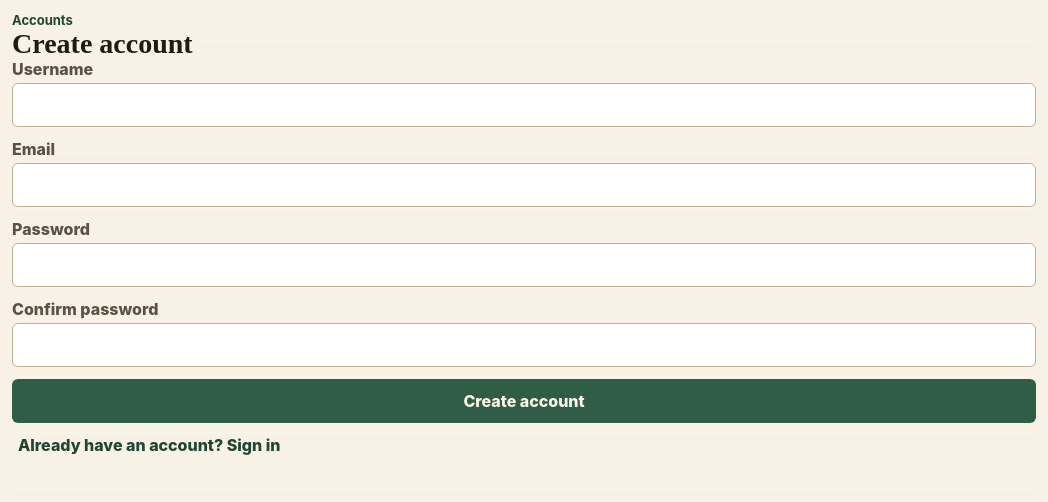
Test: AuthForm › uses custom inline registration password validation
Type "Mara" into the field labelled "Username" at [524, 105], box [12,83,1036,127]
Type "mara@example.com" into the field labelled "Email" at [524, 185], box [12,163,1036,207]
Type "weakpass" into the password field labelled "Password" at [524, 265], box [12,243,1036,287]
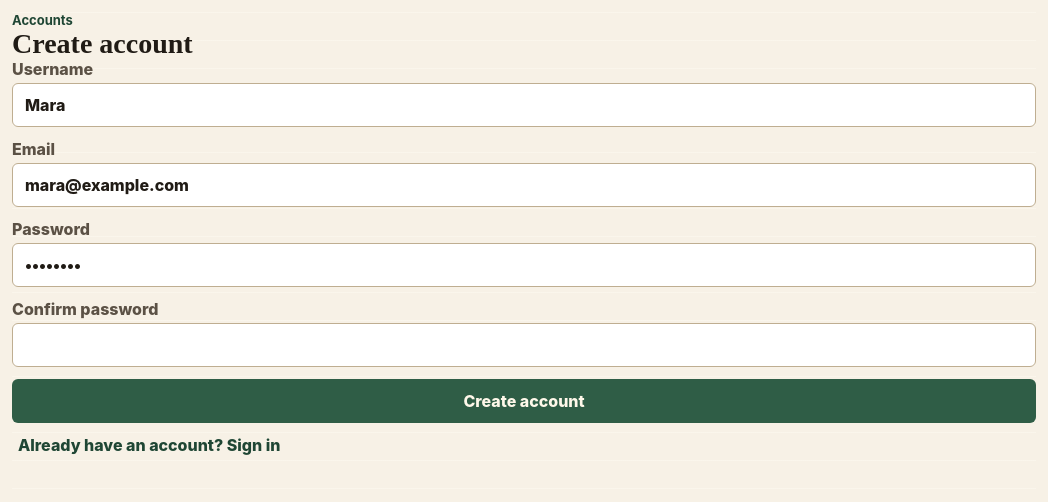
Type "weakpass" into the password field labelled "Confirm password" at [524, 345], box [12,323,1036,367]
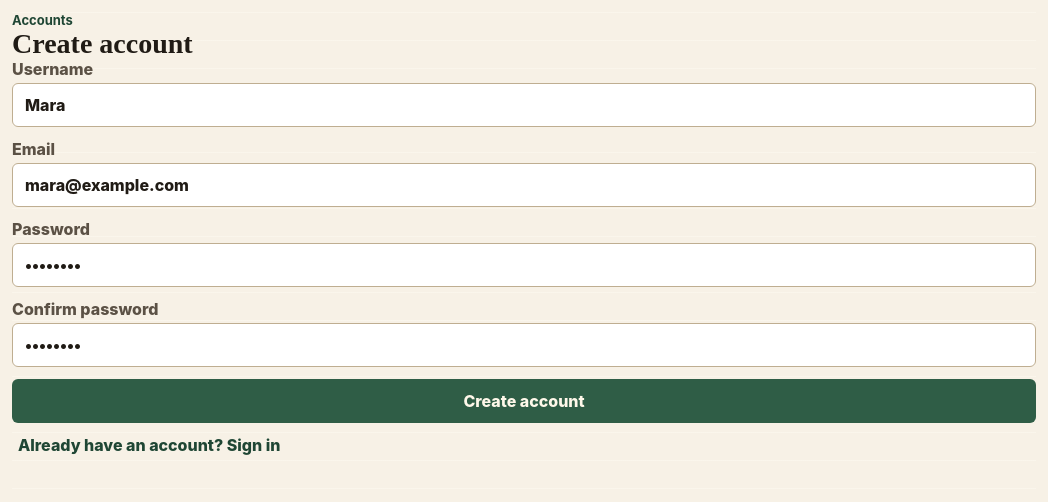
Click the button "Create account" at [524, 401], box [12,379,1036,423]
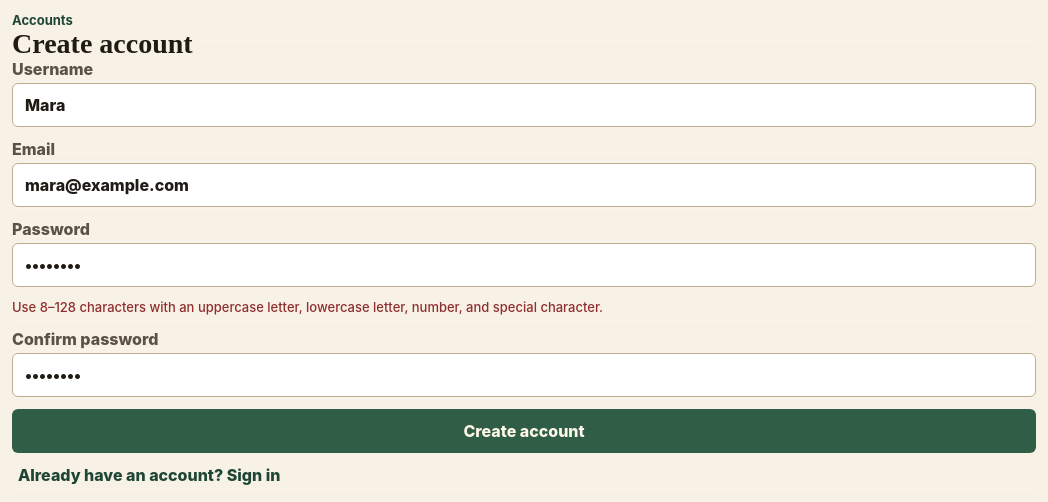
Expected: the message shows "Use 8–128 characters with an uppercase letter, lowercase letter, number, and special character.", [12,299,603,315]
Type "Correct-horse-battery-staple1" into the password field labelled "Password" at [524, 265], box [12,243,1036,287]
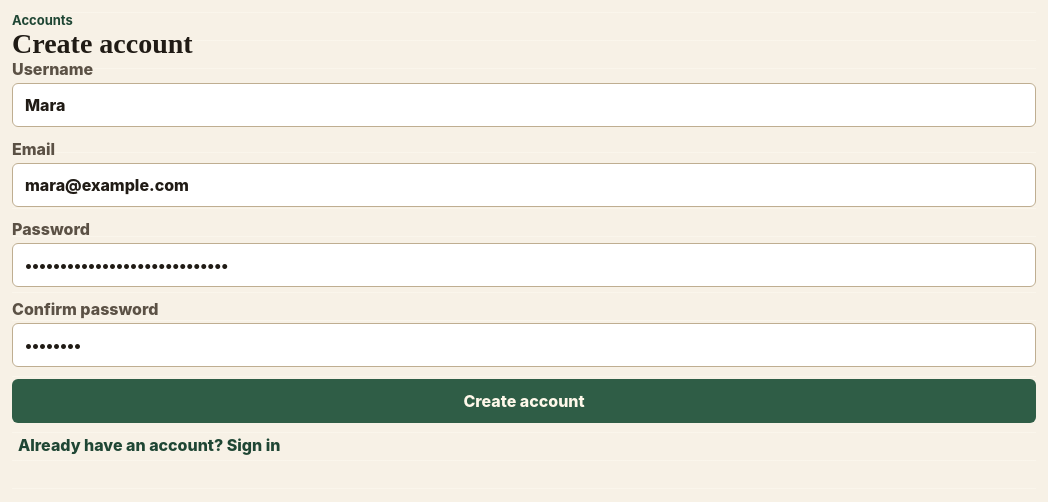
Type "Correct-horse-battery-staple1" into the password field labelled "Confirm password" at [524, 345], box [12,323,1036,367]
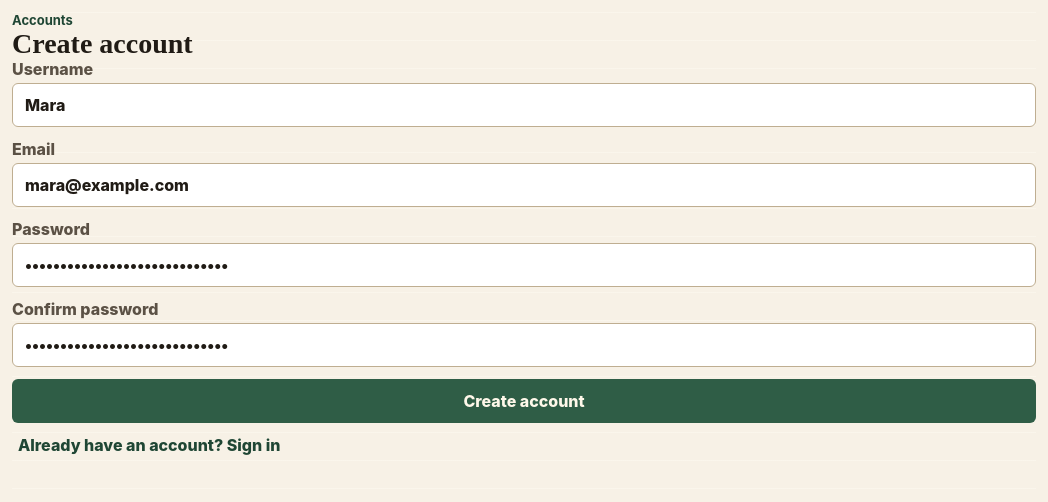
Click the button "Create account" at [524, 401], box [12,379,1036,423]
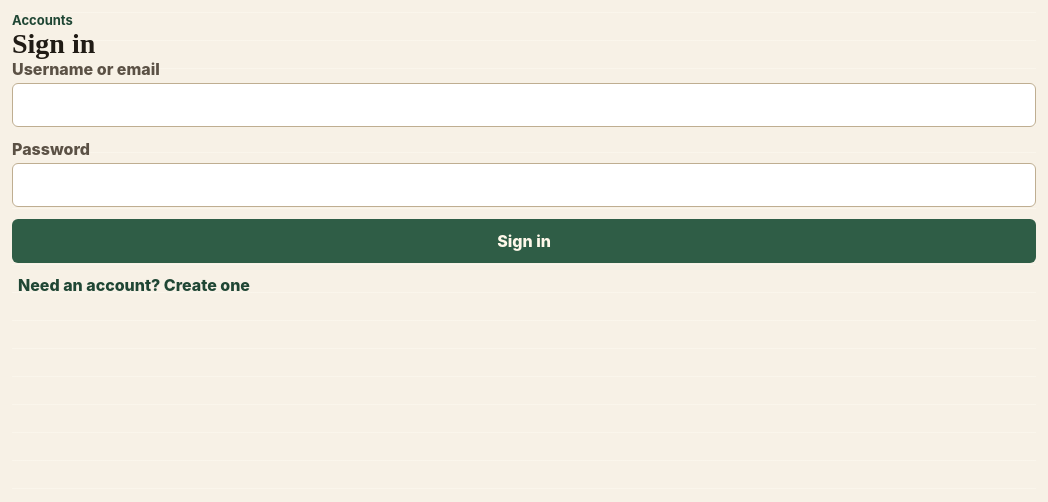
Expected: the heading "Sign in" is shown, [12,28,95,59]
